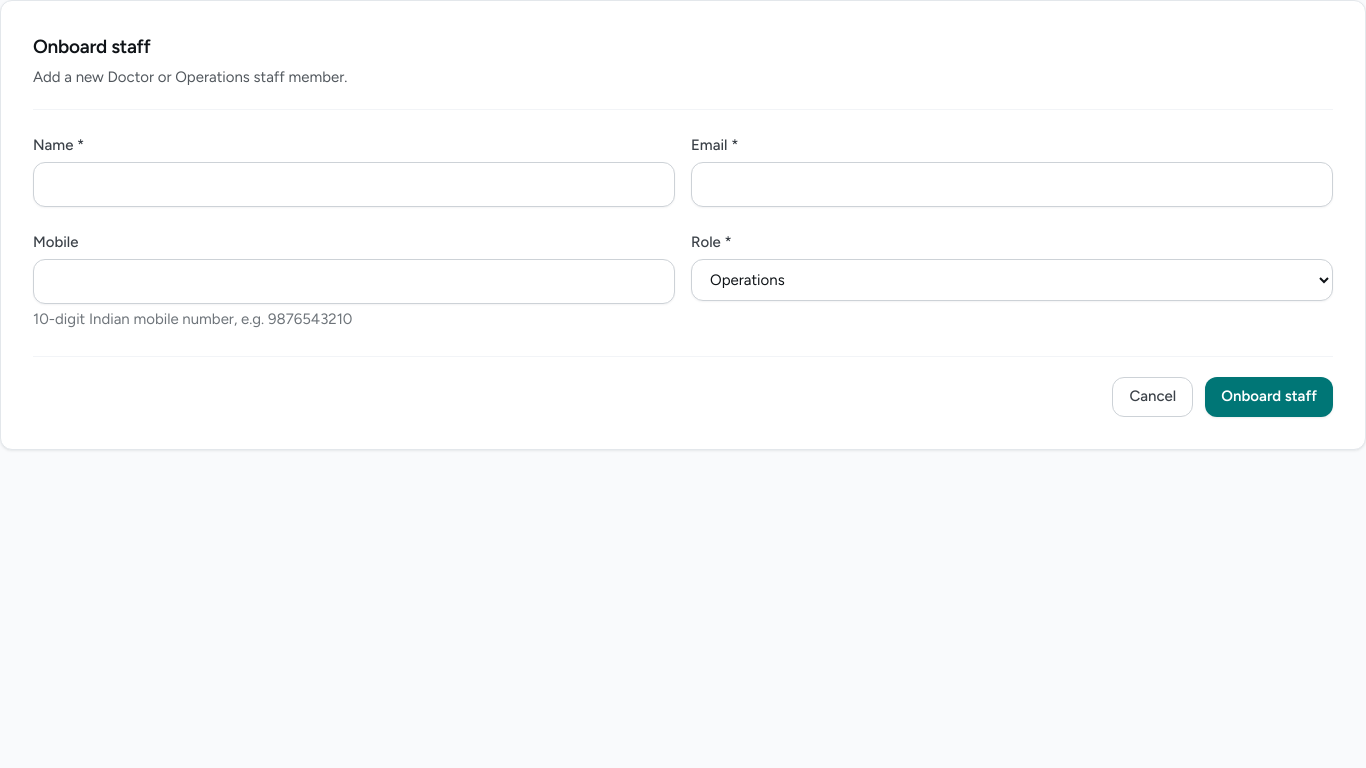
OnboardStaffForm › shows Doctor-specific fields and submits them when role=Doctor
Type "Dr. Sharma" into the field labelled "Name *" at [354, 184], box [33, 162, 675, 207]
Type "doc@clinic.example" into the field labelled "Email *" at [1012, 184], box [691, 162, 1333, 207]
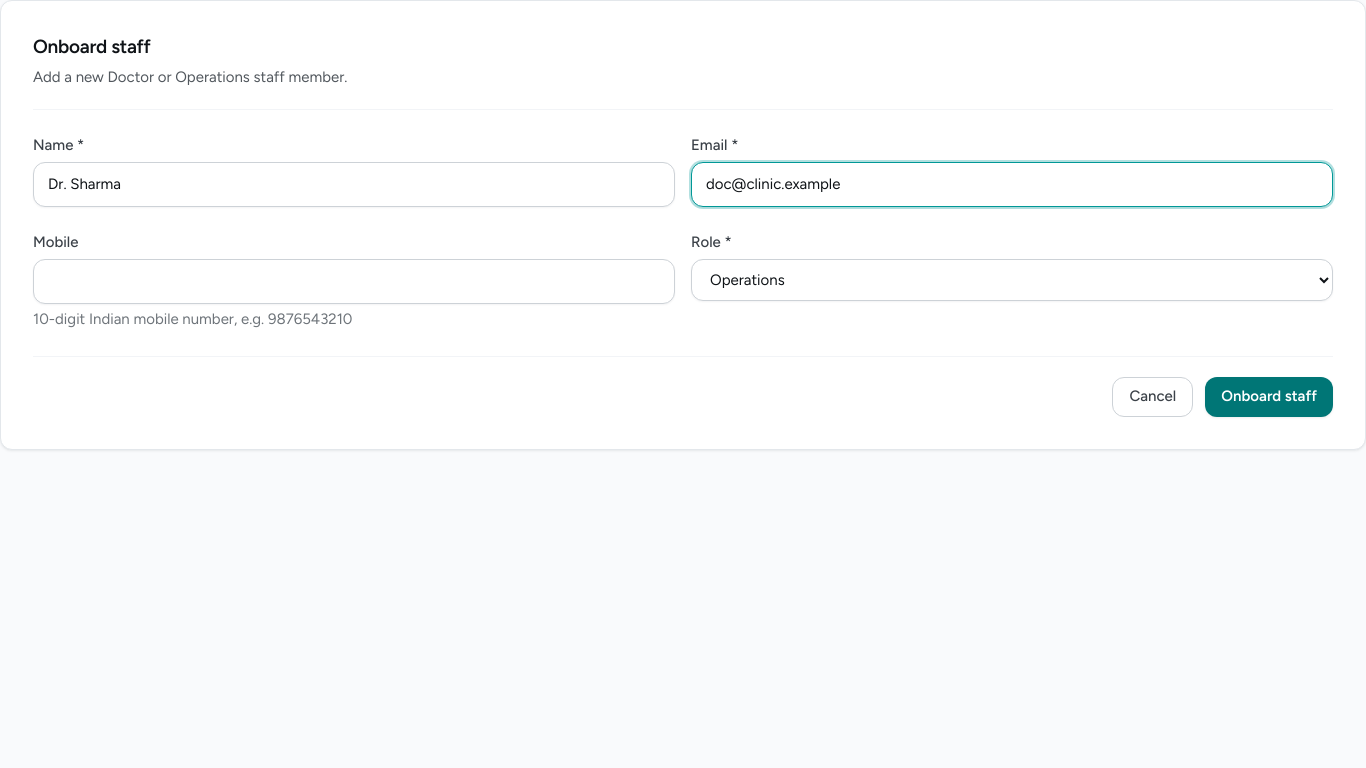
Select "Doctor" in the dropdown labelled "Role *" at [1012, 280], box [691, 259, 1333, 301]
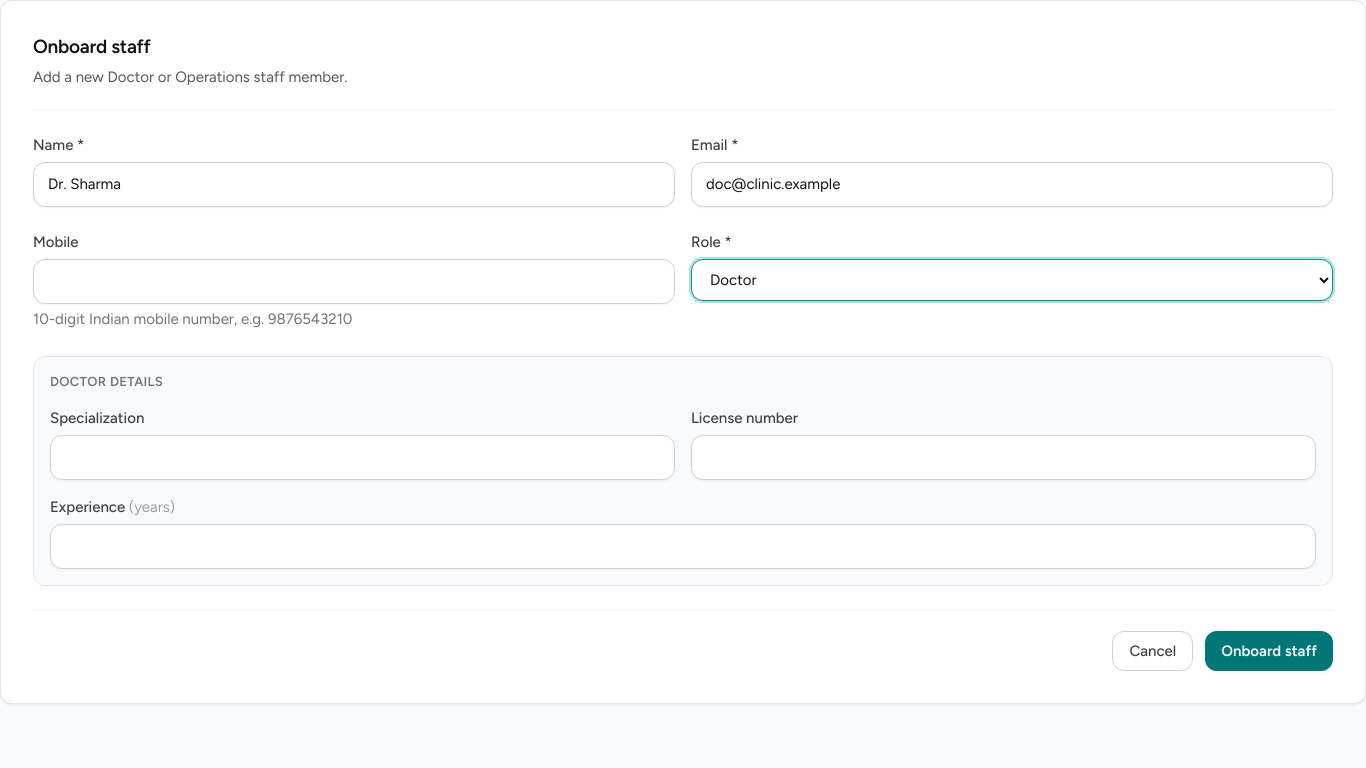
Expected: the field labelled "Specialization" is shown
Type "Cardiology" into the field labelled "Specialization" at [362, 457], box [50, 435, 675, 480]
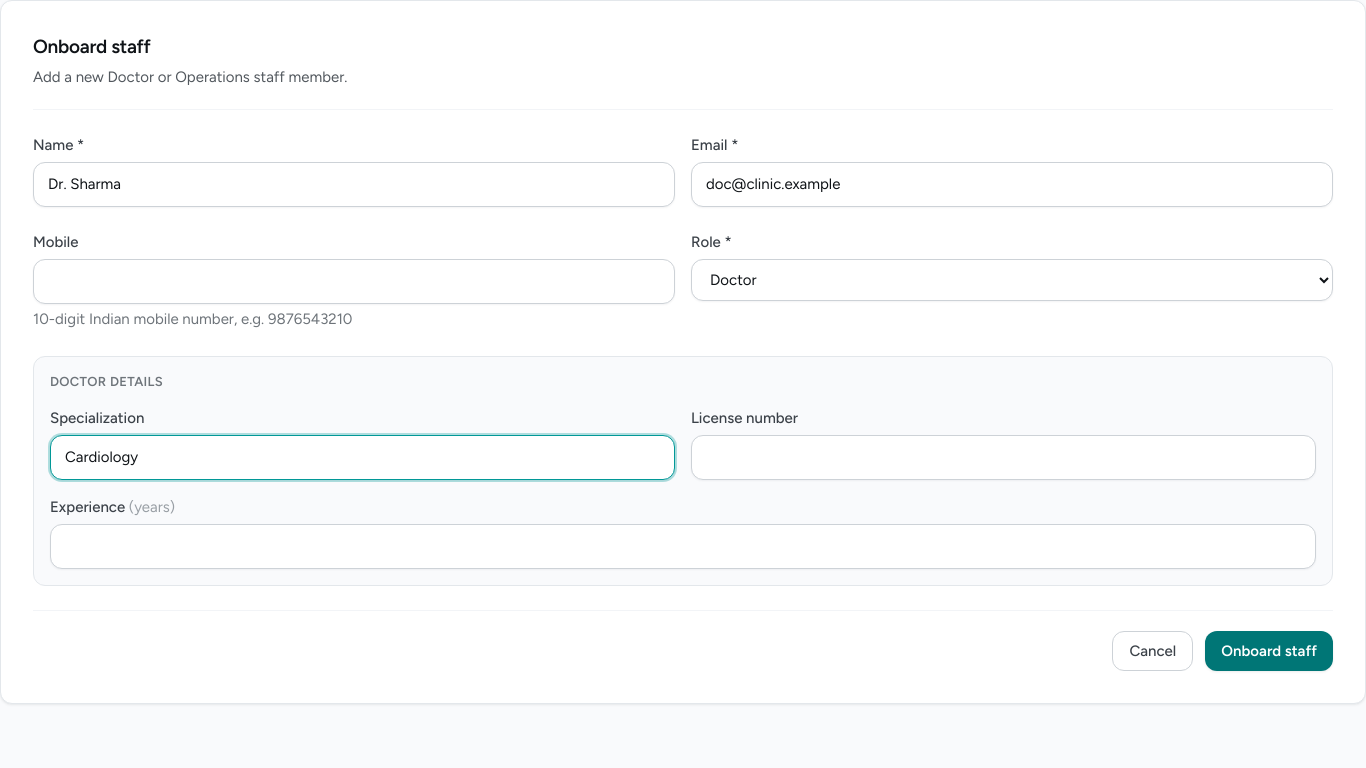
Type "LIC-999" into the field labelled "License number" at [1004, 457], box [691, 435, 1316, 480]
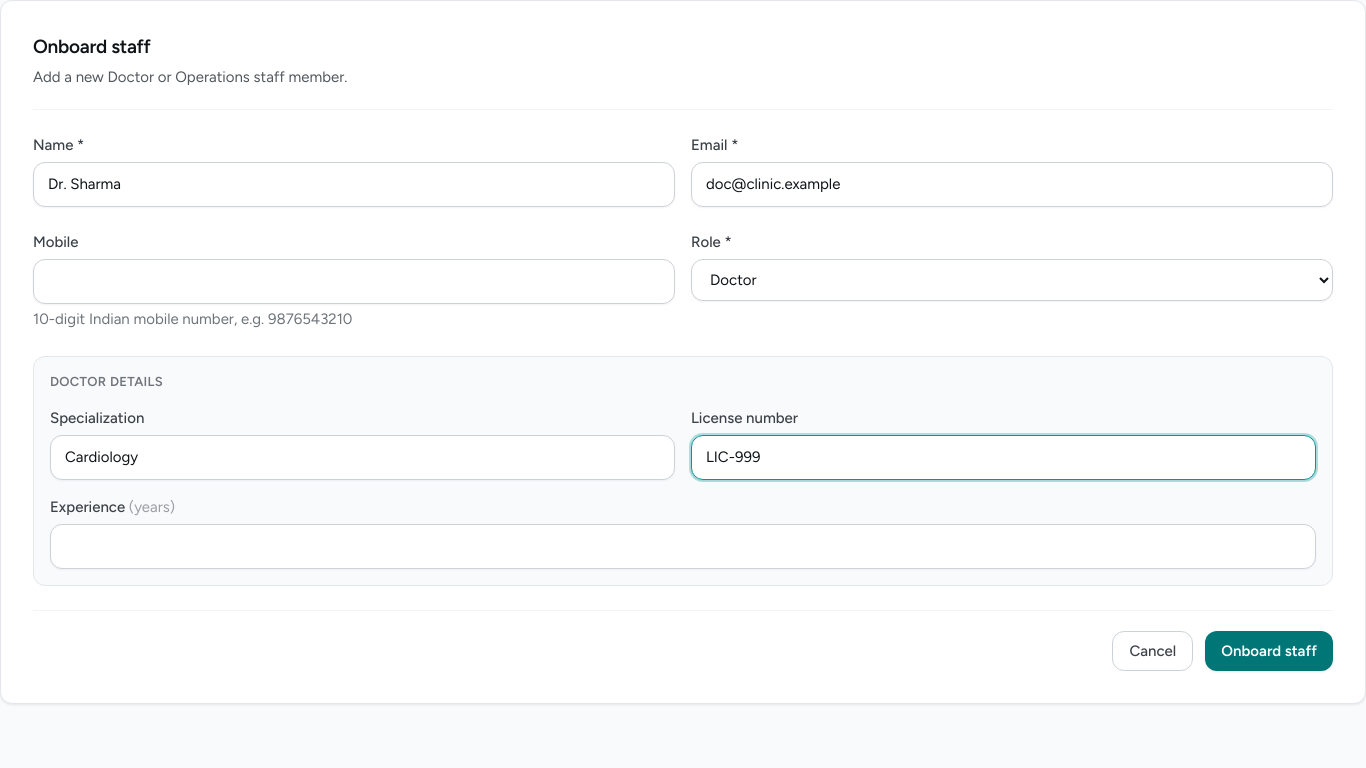
Type "5" into the number field labelled "Experience (years)" at [683, 547], box [50, 524, 1316, 569]
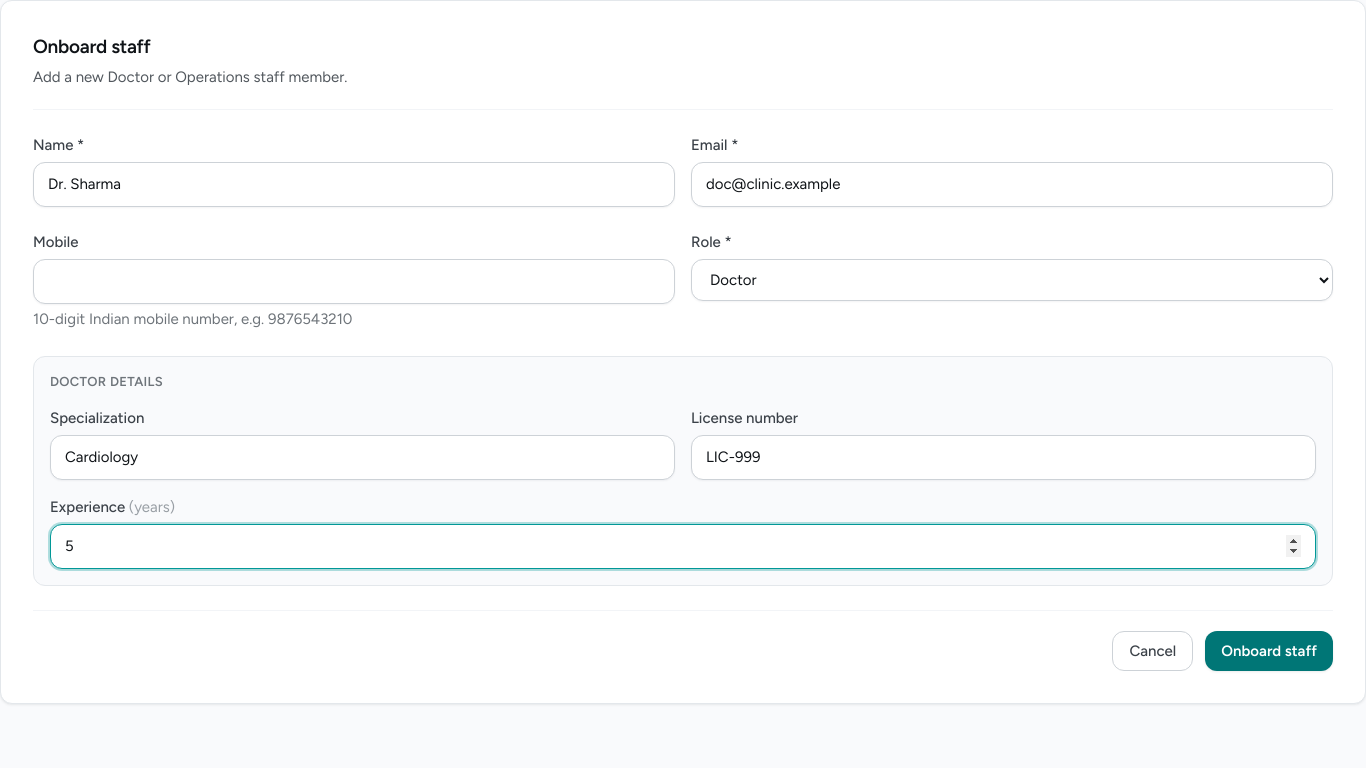
Click the button "Onboard staff" at [1269, 651], box [1205, 631, 1333, 671]
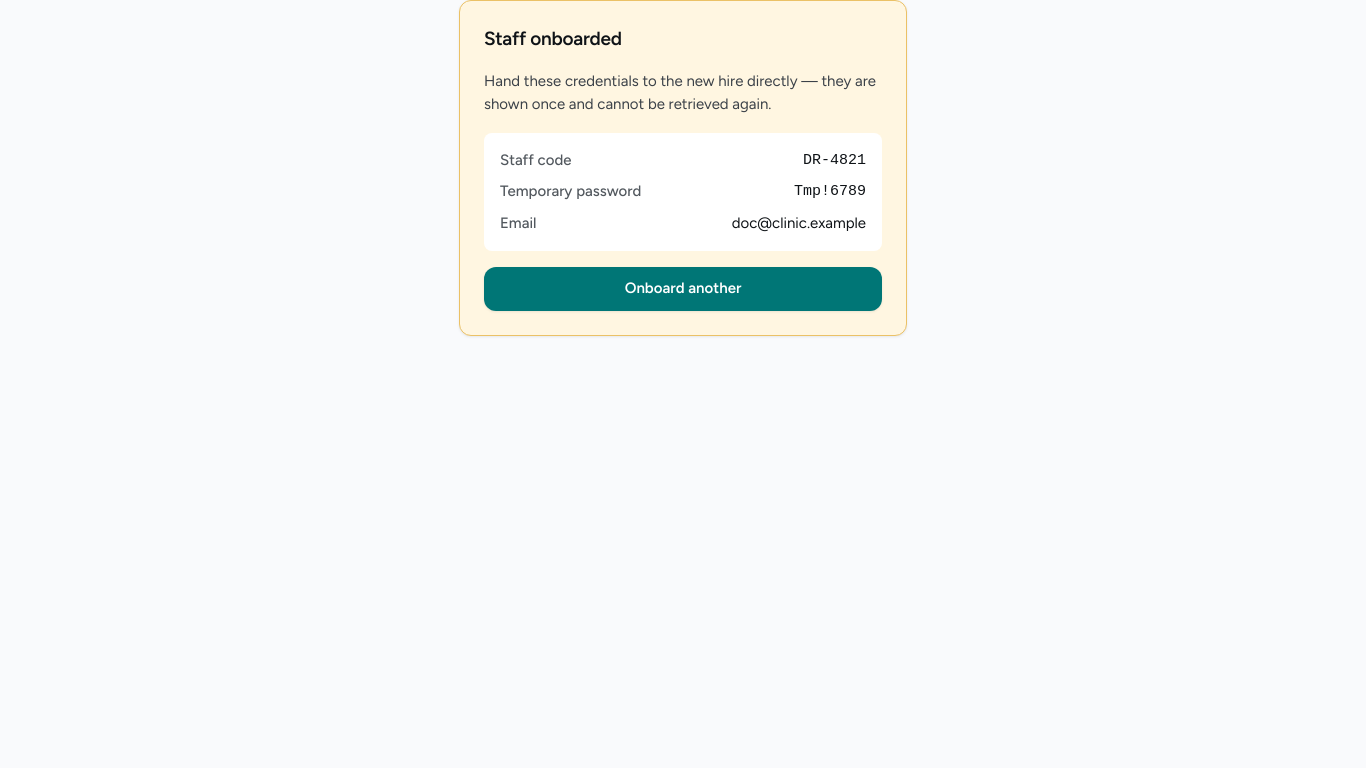
Expected: the text "DR-4821" is shown, [803, 149, 866, 172]
